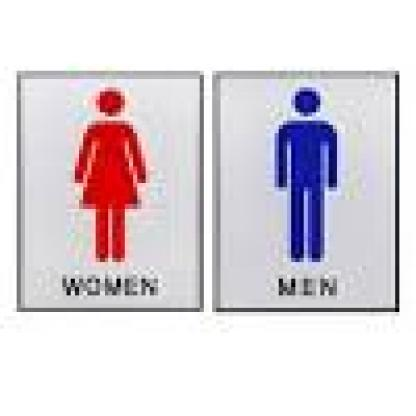toilet: (75, 83, 150, 262), (272, 85, 340, 266)
